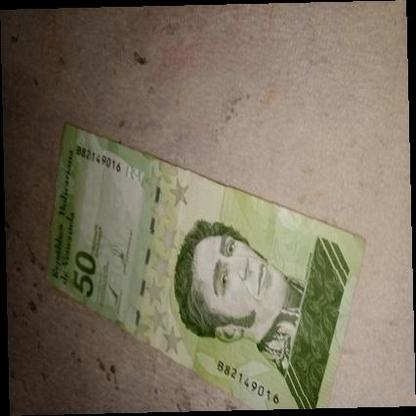fifty-front-vef: (43, 120, 364, 409)
